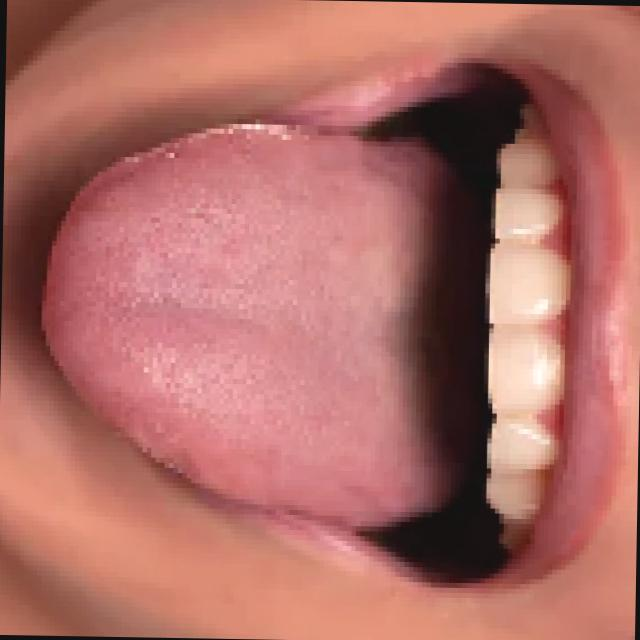No Cancer: (58, 96, 438, 503)
